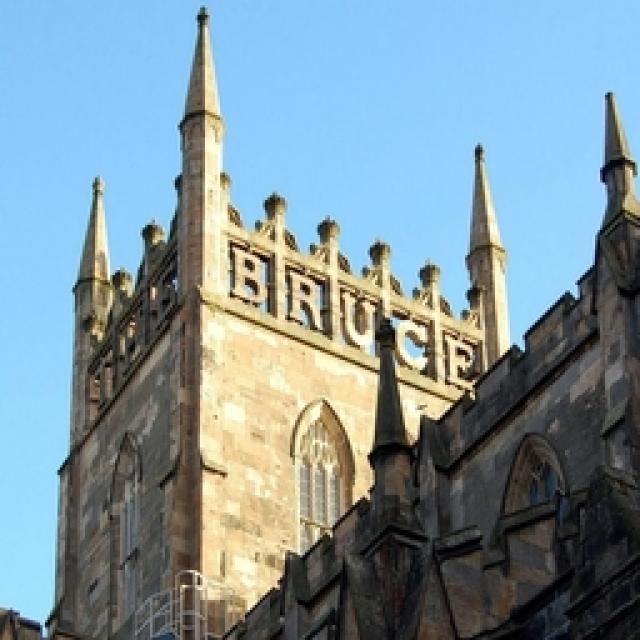Abbey: (83, 90, 614, 603)
